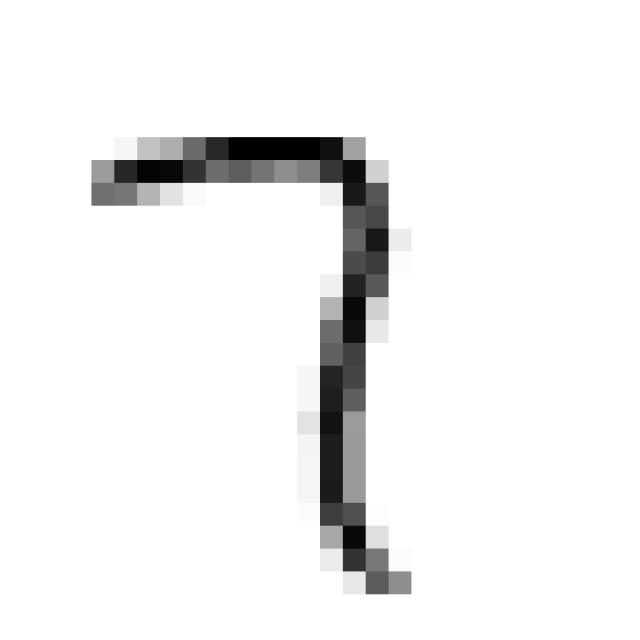6 -six-: (64, 110, 428, 615)
